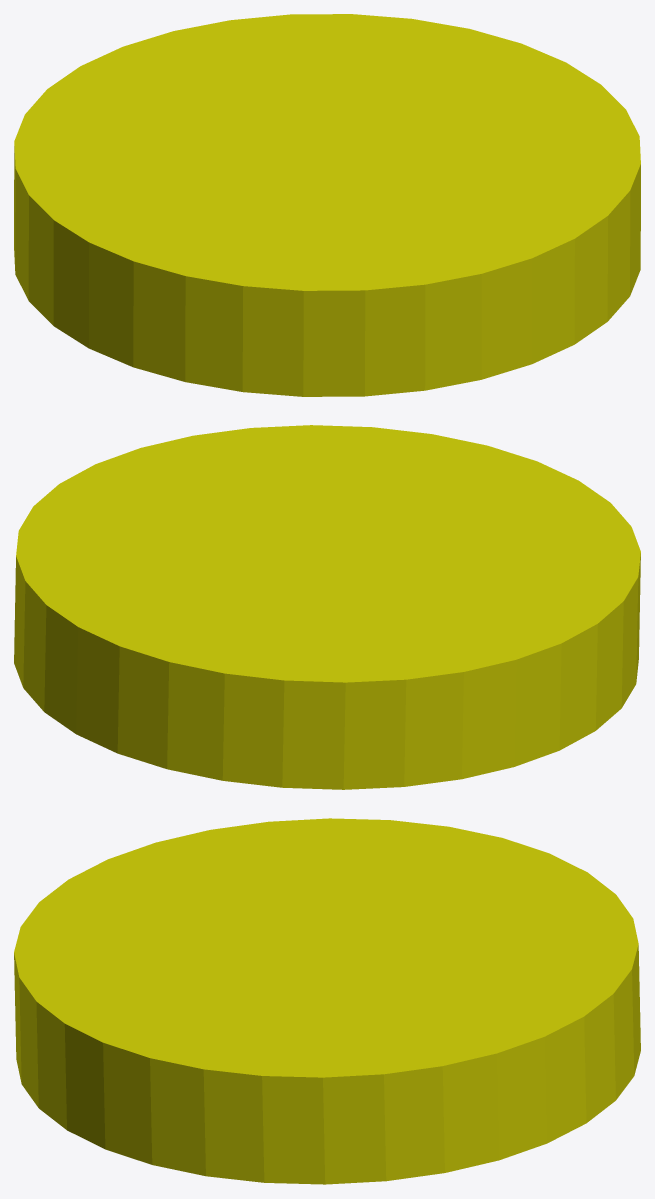
Rendered from yellow_cell.fbx.
3 renders of one model, top to bottom at view 1: azimuth 30°, elevation 25°; view 2: azimuth 150°, elevation 25°; view 3: azimuth 270°, elevation 25°, orthographic.
Visible parts, largest first — view 1: Cylinder; view 2: Cylinder; view 3: Cylinder.
Part boxes in pixels (x1=…): Cylinder: x1=14, y1=14, x2=640, y2=396; Cylinder: x1=14, y1=425, x2=640, y2=789; Cylinder: x1=14, y1=818, x2=640, y2=1184.
Bounding box in the file's own units: 0.9501 × 0.1989 × 0.9517.
